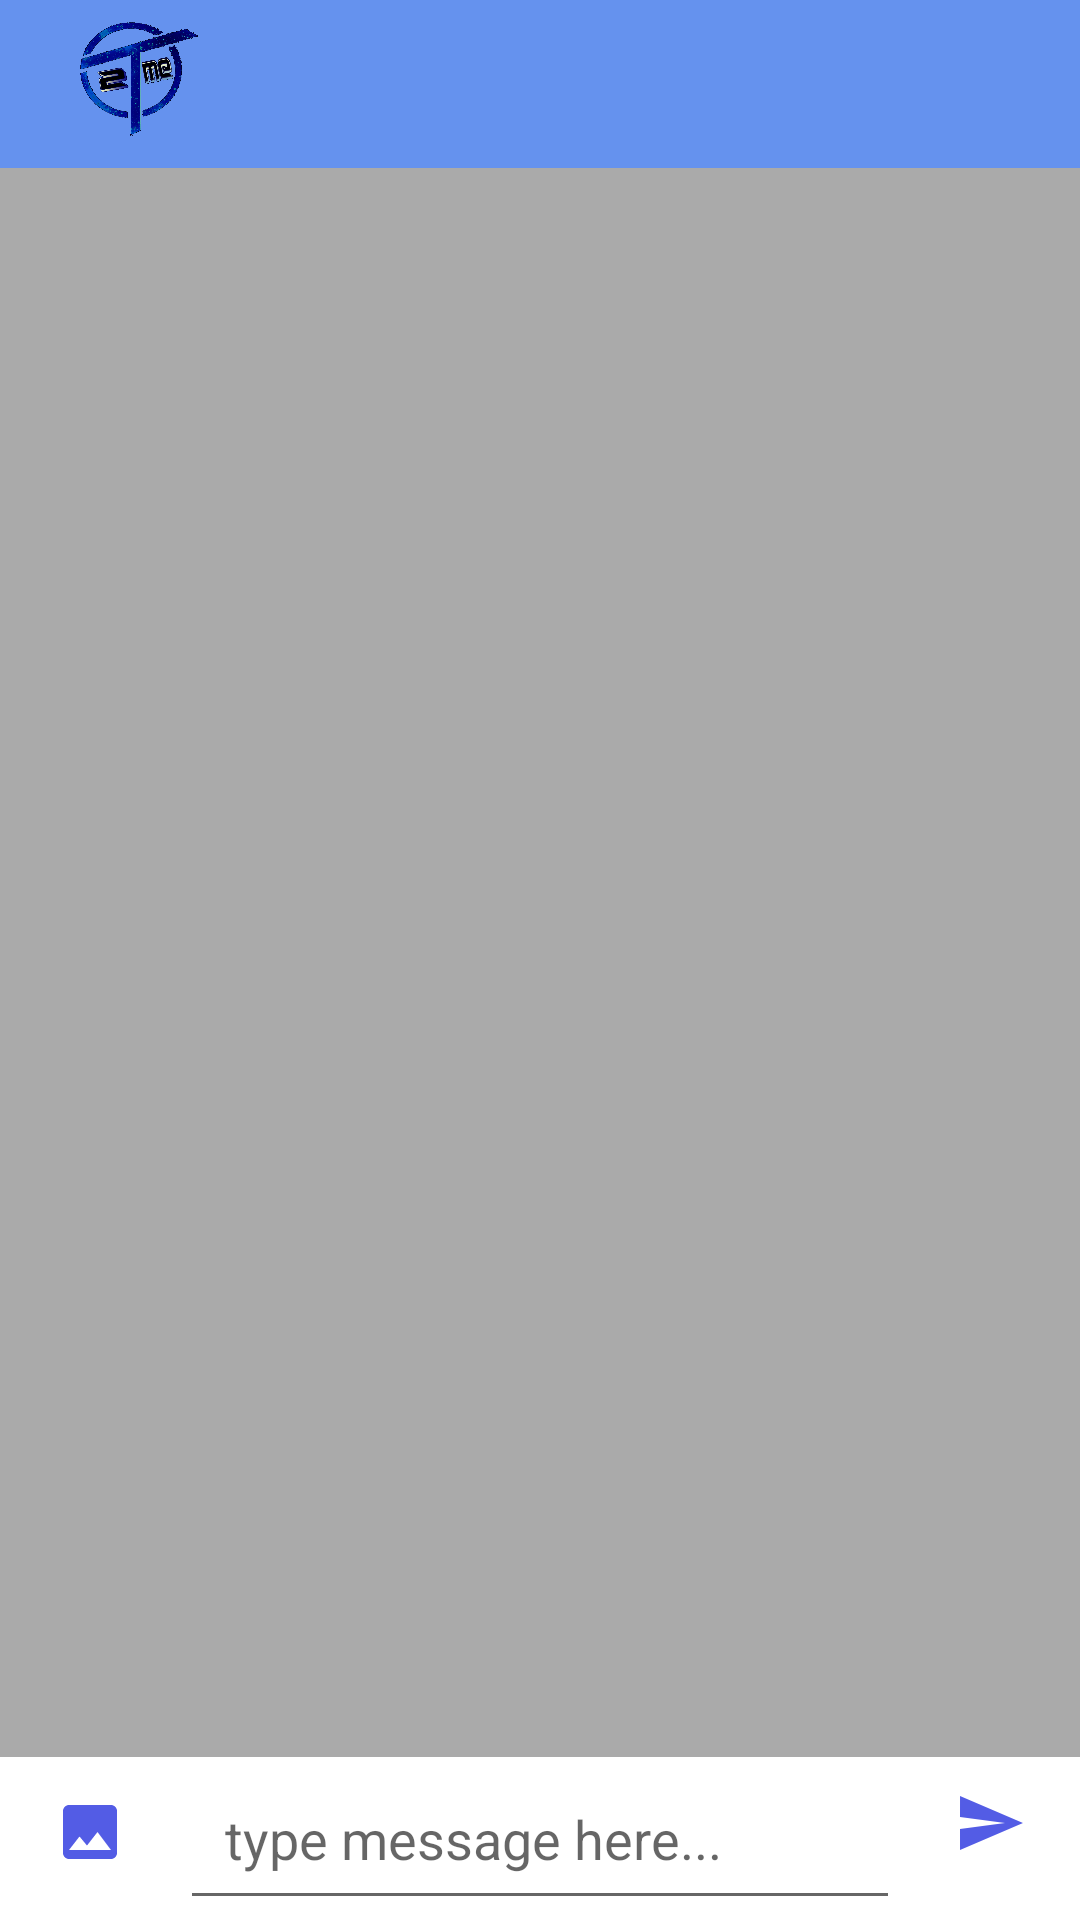

Icon click points for this 1080×1920 phone screenshot, format (x,y):
messagesend: (991,1823)
